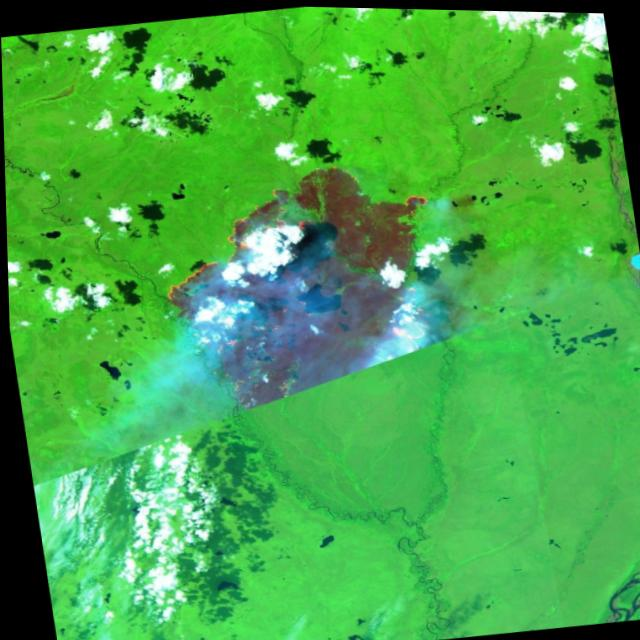fire: (127, 145, 470, 419)
